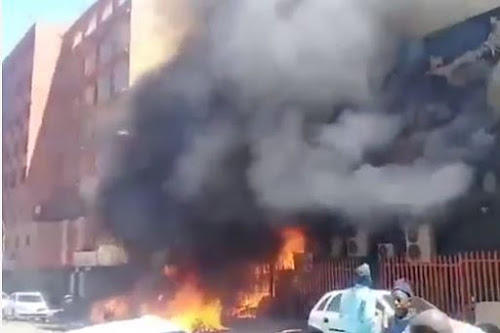smoke: (142, 1, 500, 239)
